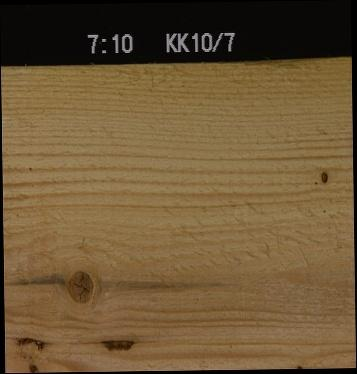dry_knot: (319, 169, 328, 185)
sound_knot: (66, 268, 92, 302)
